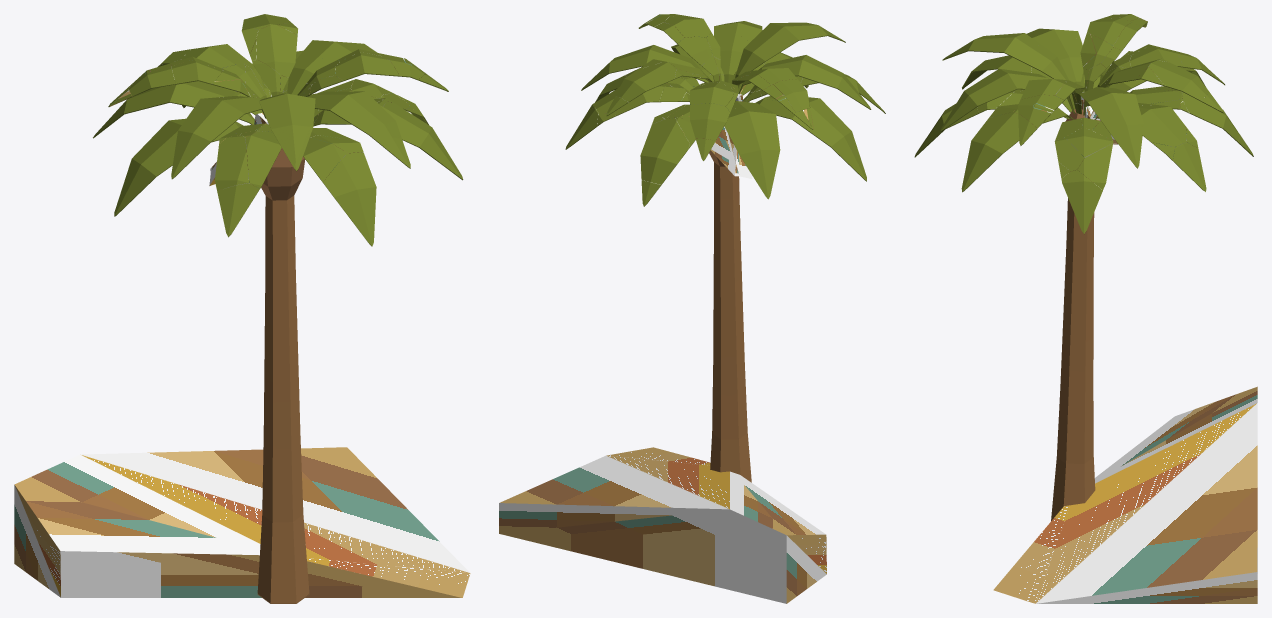
Rendered from palm_testeo.fbx.
3 renders of one model, left to right at view 1: azimuth 30°, elevation 25°; view 2: azimuth 150°, elevation 25°; view 3: azimuth 270°, elevation 25°, orthographic. The views are drawn at different scales.
Parts seen in each view (by area): view 1: Palm_cell.024, Palm_cell.087, Palm_cell.036, Palm_cell.004, Palm_cell.028, Palm_cell.071, Palm_cell.161, Palm_cell.013, Palm_cell.091, Palm_cell.003, Palm_cell.031, Palm_cell.067 (+11 smaller); view 2: Palm_cell.024, Palm_cell.087, Palm_cell.036, Palm_cell.093, Palm_cell.161, Palm_cell.004, Palm_cell.091, Palm_cell.146, Palm_cell.148, Palm_cell.057, Palm_cell.052, Palm_cell.043 (+11 smaller); view 3: Palm_cell.024, Palm_cell.087, Palm_cell.013, Palm_cell.161, Palm_cell.052, Palm_cell.071, Palm_cell.034, Palm_cell.064, Palm_cell.146, Palm_cell.004, Palm_cell.163, Palm_cell.093 (+14 smaller).
Part boxes in pixels (x1,y1,x2,y2): Palm_cell.024: (14,447,470,597); Palm_cell.087: (210,152,309,602); Palm_cell.036: (93,80,254,215); Palm_cell.004: (171,97,268,178); Palm_cell.028: (323,152,376,246); Palm_cell.071: (316,91,409,167); Palm_cell.161: (259,93,315,170); Palm_cell.013: (382,101,463,180); Palm_cell.091: (260,470,293,562); Palm_cell.003: (256,25,297,77); Palm_cell.031: (214,135,248,190); Palm_cell.067: (245,131,281,188); Palm_cell.024: (499,447,826,603); Palm_cell.087: (709,126,751,482); Palm_cell.036: (724,96,866,198); Palm_cell.093: (640,118,689,184); Palm_cell.161: (736,22,844,88); Palm_cell.004: (735,55,870,109); Palm_cell.091: (730,395,750,474); Palm_cell.146: (615,61,676,102); Palm_cell.148: (690,103,730,140); Palm_cell.057: (710,398,729,472); Palm_cell.052: (581,48,708,90); Palm_cell.043: (744,149,778,198); Palm_cell.024: (993,386,1257,603); Palm_cell.087: (1051,109,1117,520); Palm_cell.013: (961,112,1019,192); Palm_cell.161: (943,33,1075,109); Palm_cell.052: (1079,87,1143,168); Palm_cell.071: (940,69,1074,130); Palm_cell.034: (1139,105,1186,146); Palm_cell.064: (1061,170,1102,233); Palm_cell.146: (1149,60,1209,101); Palm_cell.004: (1026,28,1083,109); Palm_cell.163: (1083,91,1125,131); Palm_cell.093: (1182,92,1239,142).
Size of the model in its own units: 482 by 741 by 479.
